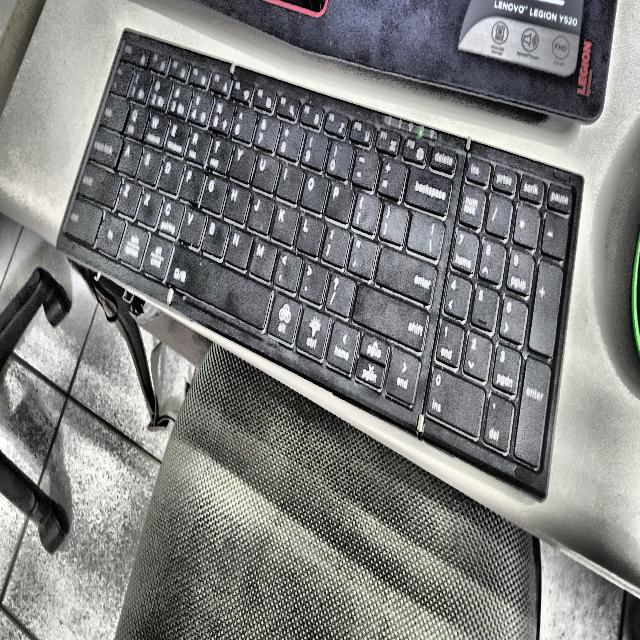Keyboard: (58, 30, 584, 499)
Laptop: (201, 0, 616, 121)
